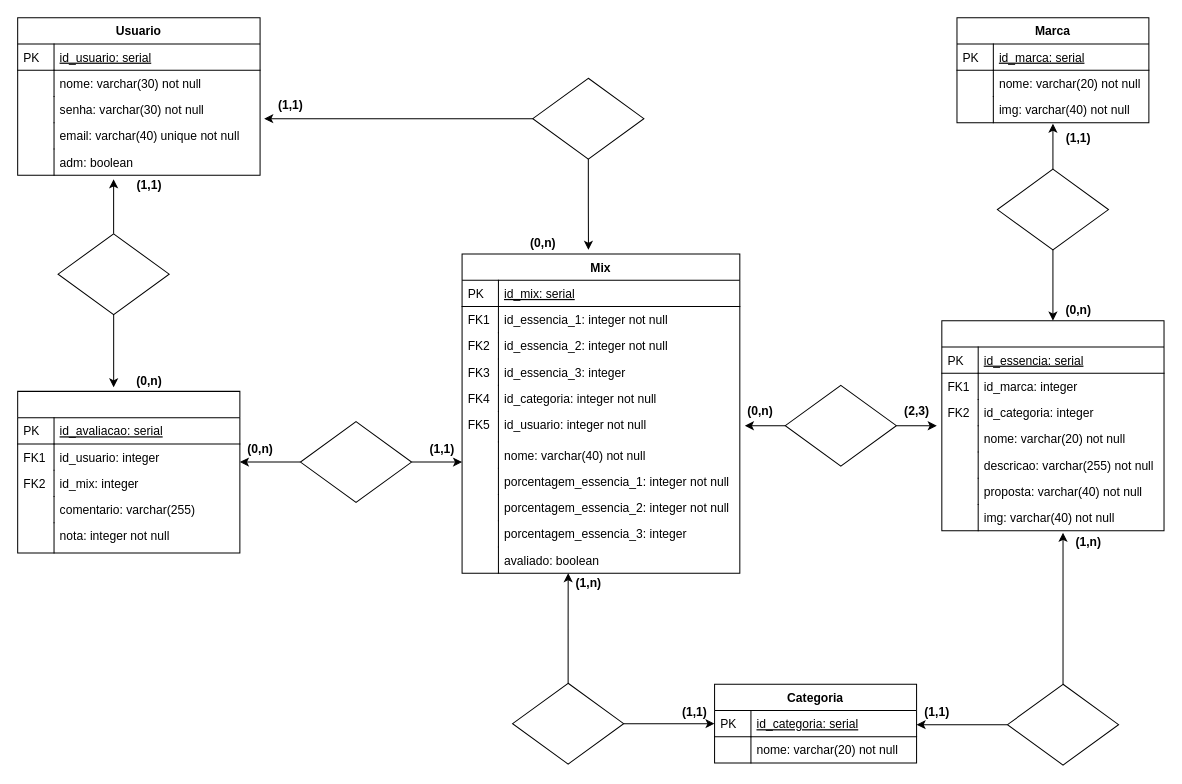
Image size: 1182x784. Some labels were removed from this diagram. Here are the shapes that lost their labels. From the top down, the box of each, then its label:
(941, 320, 1164, 531): Essência
(17, 390, 240, 553): Avaliação
